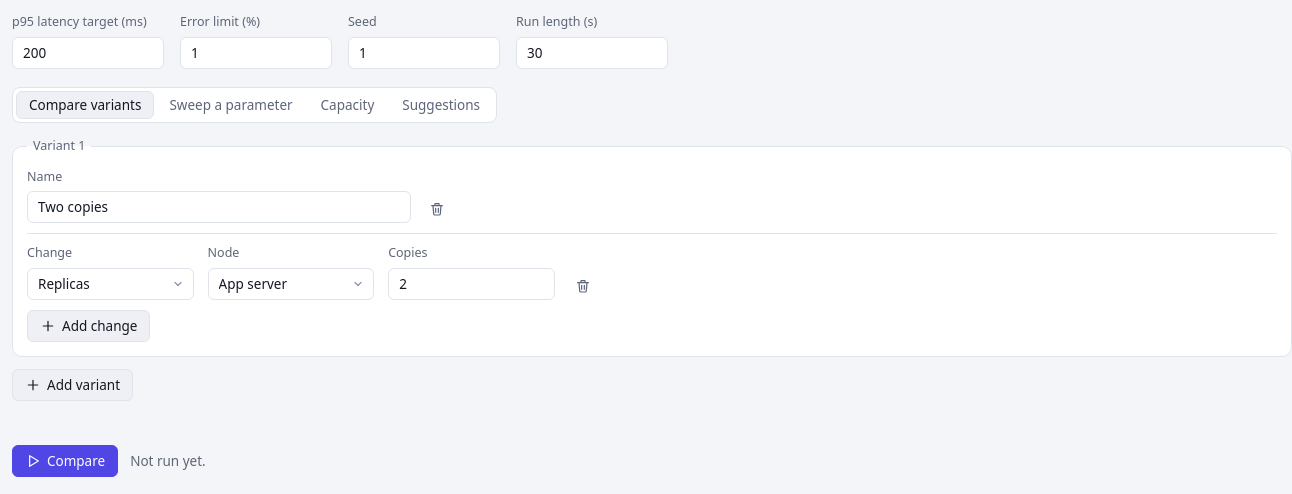
it: WhatIfTab › blocks a sweep with a bad range
This screenshot has width=1292, height=494.
Click the button "Sweep a parameter" at (231, 105), box [156,91,306,119]
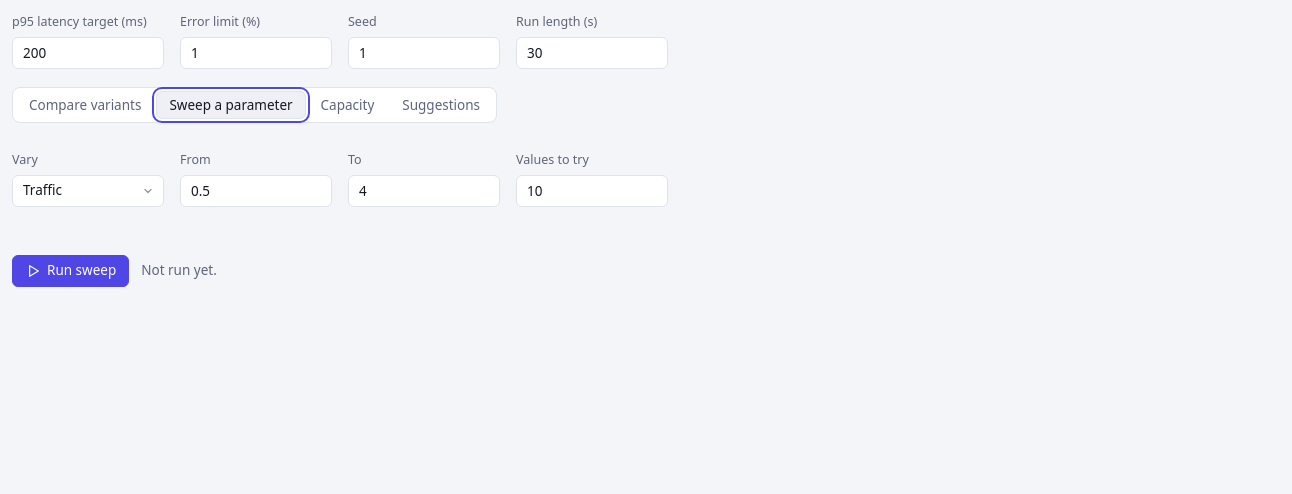
Replace the text in the number field labelled "To" with "0.5" at (424, 190), box [348,174,500,206]
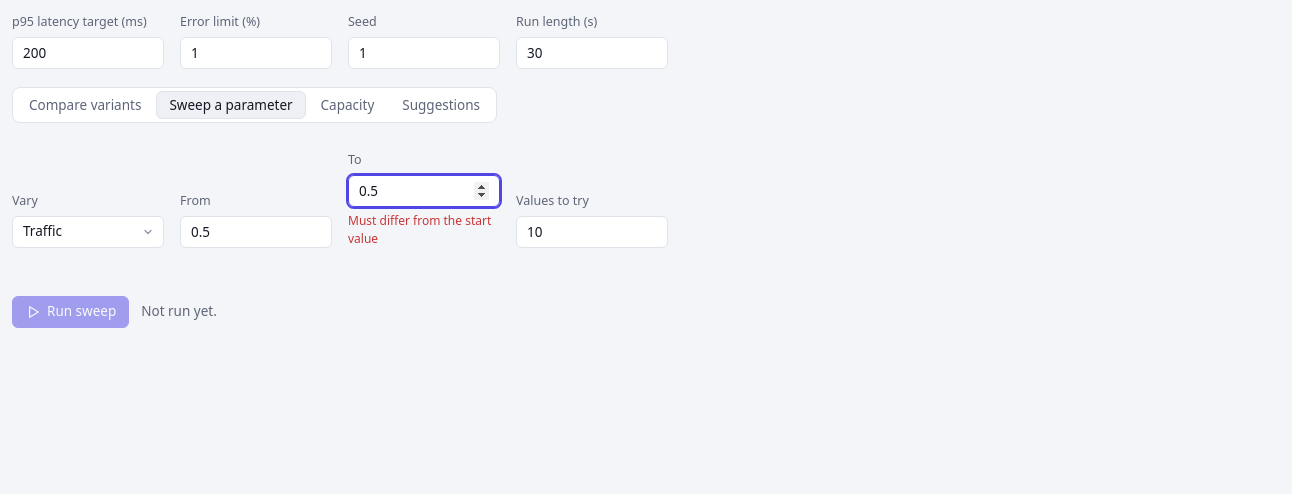
Now the button "Run sweep" is disabled, box [12,296,129,328]
Now the text "Must differ from the start value" is shown, box [348,212,500,248]
